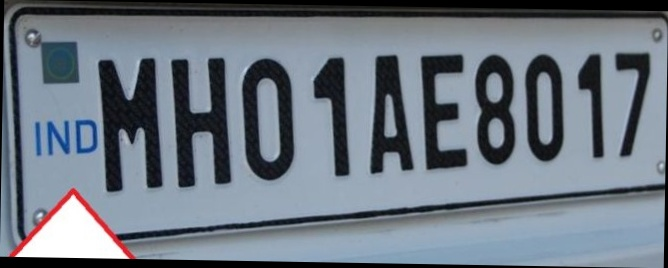character: (95, 56, 166, 193), (166, 56, 233, 190), (238, 56, 297, 183), (417, 51, 470, 174), (367, 51, 415, 175), (472, 51, 517, 168), (310, 54, 351, 180), (522, 52, 566, 162), (610, 48, 651, 159), (574, 50, 608, 161)
